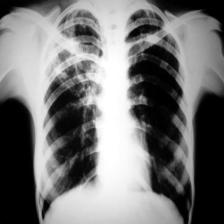tuberculosis: (32, 0, 195, 224)
